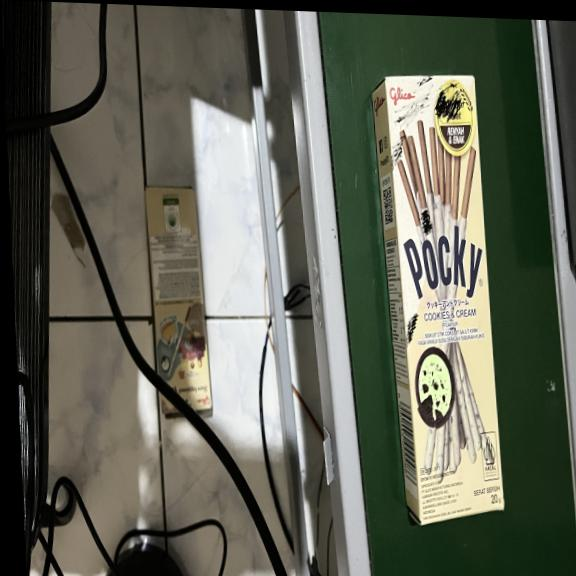Kertas: (391, 62, 507, 531)
